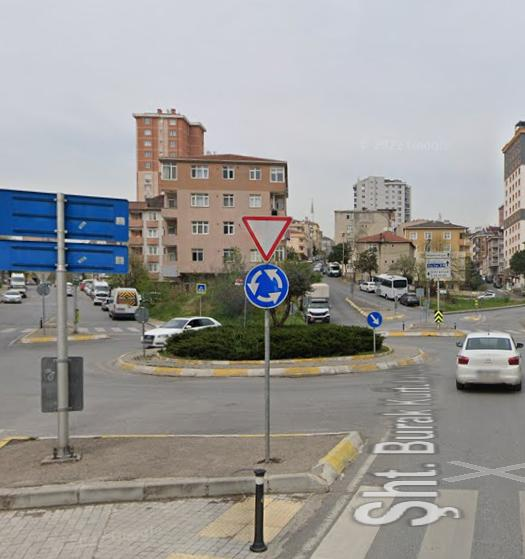crossroads: (245, 261, 291, 309)
